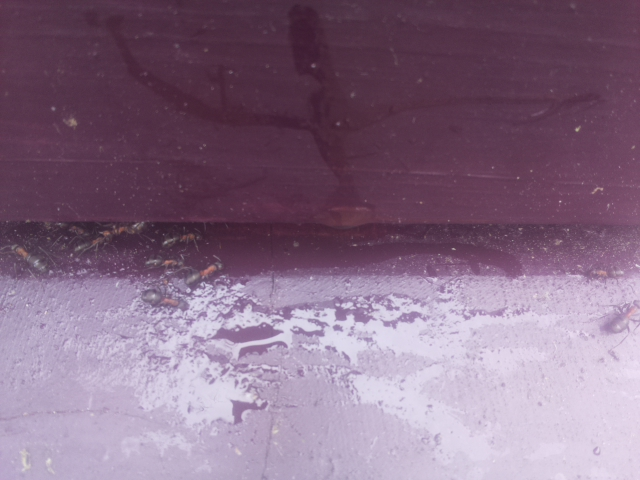ant: (176, 253, 231, 296), (1, 237, 55, 280), (602, 295, 640, 341), (140, 283, 187, 312), (161, 228, 202, 251)
